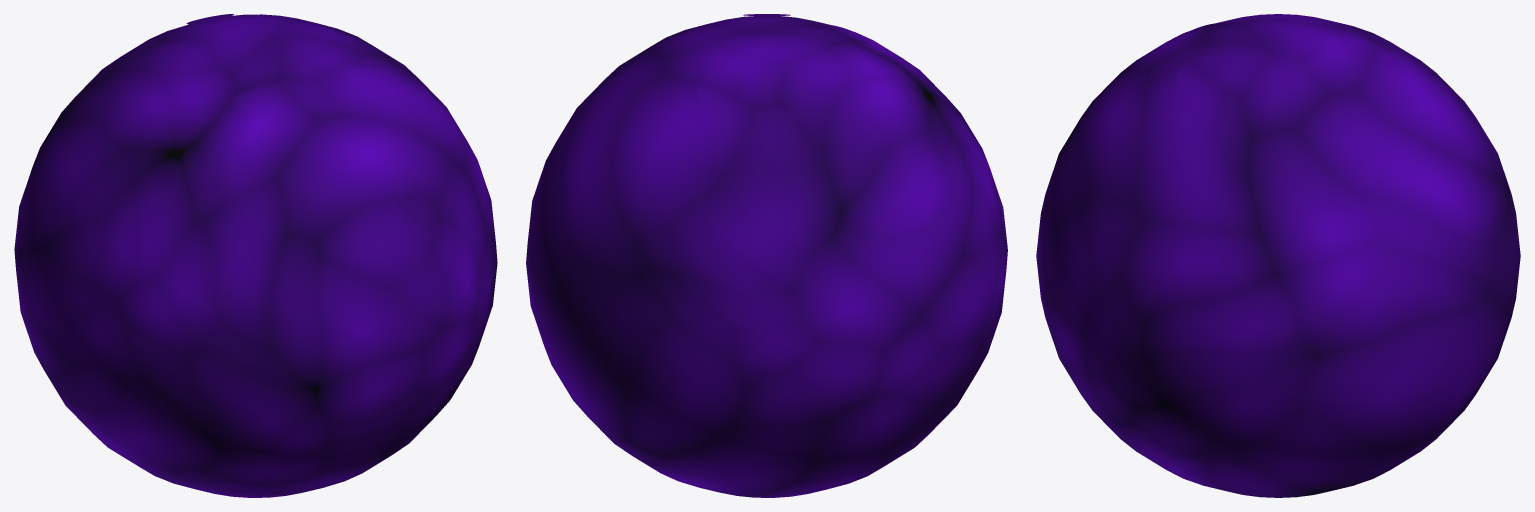
Rendered from ball_purple.gltf.
3 views of the same model, side by side, from view 1: azimuth 30°, elevation 25°; view 2: azimuth 150°, elevation 25°; view 3: azimuth 270°, elevation 25° (orthographic).
Parts seen in each view (by area): view 1: bowlingBall.005; view 2: bowlingBall.005; view 3: bowlingBall.005.
Boxes of the visible parts, x1,y1,x2,y2 form: bowlingBall.005: (14,14,497,497); bowlingBall.005: (526,14,1007,497); bowlingBall.005: (1036,14,1520,497).
Bounding box in the file's own units: 0.25 × 0.25 × 0.25.
1 material, 1 textured.
